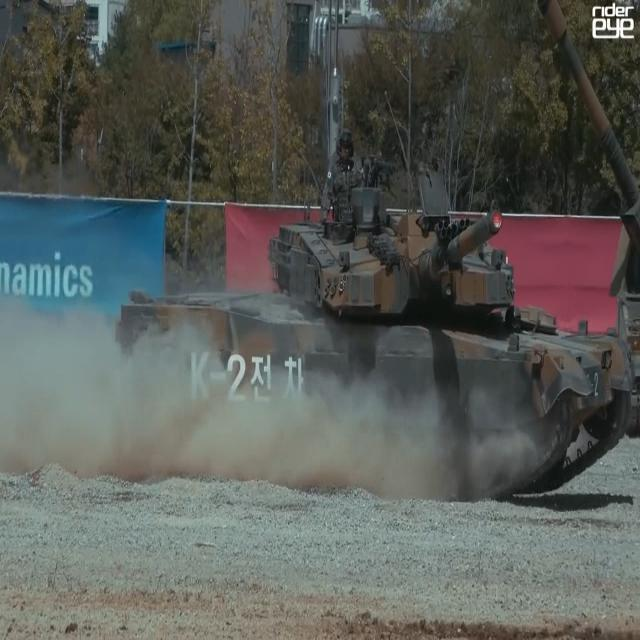korea tank: (115, 130, 635, 506)
